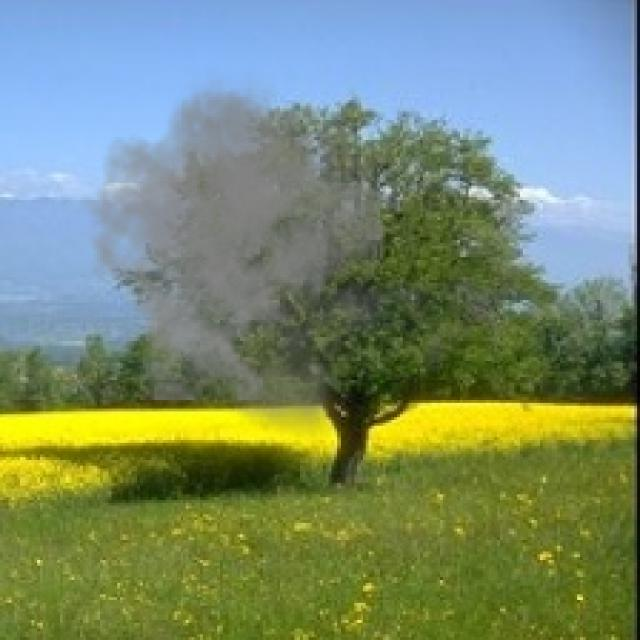smoke: (80, 63, 494, 446)
